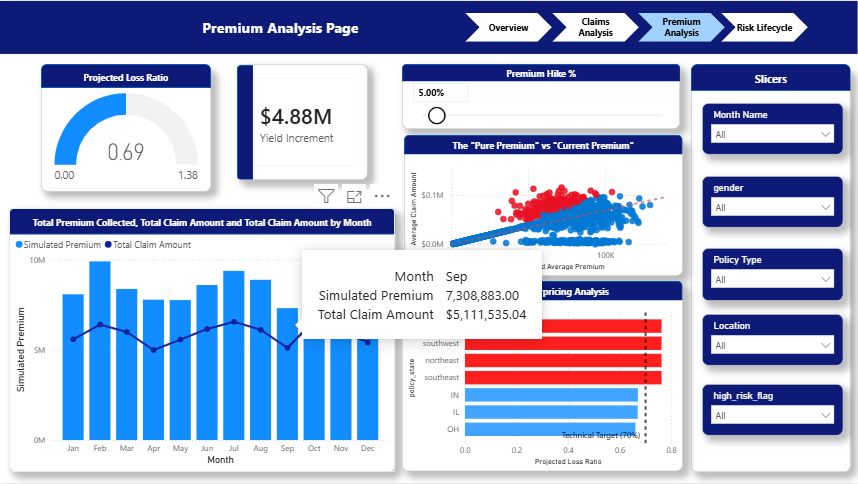

Layout of this report page (visuals, bound fields, positions):
{"tool":"powerbi","page":{"name":"Premium Analysis","canvas":[1280,720],"ordinal":2},"visuals":[{"type":"shape","box":[0,0,1280.2,79.2],"z":0},{"type":"lineClusteredColumnComboChart","fields":{"Category":["Dim_Calendar.Month"],"Y2":["_Measures.Total Claim Amount"],"Y":["_Measures.Simulated Premium"]},"box":[13.2,308.8,576.6,393.7],"z":0,"group":"g5"},{"type":"shape","box":[694.3,18.6,130,42.9],"z":1000},{"type":"slicer","fields":{"Values":["Premium Hike %.Premium Hike %"]},"box":[600,93.8,415.4,96.9],"z":1000,"group":"g3"},{"type":"shape","box":[824.3,18.6,130,42.9],"z":2000},{"type":"gauge","fields":{"Y":["_Measures.Projected Loss Ratio"]},"box":[61.5,98.3,254,185.9],"z":2000,"group":"g1"},{"type":"shape","box":[952.9,18.6,130,42.9],"z":3000},{"type":"cardVisual","fields":{"Data":["_Measures.Premium Yield Increment"]},"box":[341.8,95.5,235.7,172.4],"z":3000,"group":"g2"},{"type":"shape","box":[1075.7,18.6,130,42.9],"z":4000},{"type":"clusteredBarChart","title":"Regional Underpricing Analysis","fields":{"Category":["Dim_Geography.policy_state"],"Y":["_Measures.Projected Loss Ratio"]},"box":[599.9,419.2,419,284.1],"z":4000,"group":"g6"},{"type":"shape","box":[218.5,13.8,401.5,50.8],"z":5000},{"type":"scatterChart","title":"The \"Pure Premium\" vs \"Current Premium\" ","fields":{"Y":["_Measures.Average Claim Amount"],"X":["_Measures.Simulated Average Premium"],"Category":["v_executive_summary.policy_id"]},"box":[602.9,204.9,415.6,206.3],"z":5000,"group":"g4"},{"type":"shape","box":[1030.8,100,238.5,603.1],"z":6000},{"type":"slicer","fields":{"Values":["v_executive_summary.business_line"]},"box":[1047.7,369.2,211.2,78.6],"z":7000},{"type":"slicer","fields":{"Values":["Dim_Geography.policy_state"]},"box":[1047.7,467.7,211.2,77.2],"z":8000},{"type":"slicer","fields":{"Values":["Dim_Gender.gender"]},"box":[1047.3,261.6,211.2,76.8],"z":9000},{"type":"slicer","fields":{"Values":["v_executive_summary.high_risk_flag"]},"box":[1047.3,571.4,211.2,77.2],"z":10000},{"type":"slicer","fields":{"Values":["Dim_Calendar.Month"]},"box":[1047.3,152.7,211.2,77.2],"z":11000},{"type":"shape","box":[1030.8,93.8,238.5,40],"z":12000},{"type":"group","id":"g1","title":"Group 1","box":[61.5,93.8,253.8,190.8],"z":13000},{"type":"group","id":"g2","title":"Group 2","box":[341.8,95.5,235.8,173.1],"z":14000},{"type":"group","id":"g3","title":"Group 3","box":[600,93.8,415.4,96.9],"z":15000},{"type":"group","id":"g4","title":"Group 4","box":[602.9,200.5,415.6,210.7],"z":16000},{"type":"group","id":"g5","title":"Group 5","box":[13.2,308.8,576.6,393.7],"z":17000},{"type":"group","id":"g6","title":"Group 6","box":[599.9,418.5,419,284.9],"z":18000},{"type":"shape","box":[600,93.8,415.4,26.2],"z":18501,"group":"g3"},{"type":"shape","box":[13.2,308.8,576.6,39.5],"z":18502,"group":"g5"},{"type":"shape","box":[602.9,200.5,415.6,29.3],"z":18503,"group":"g4"},{"type":"shape","box":[603,418.5,415.6,29.3],"z":18504,"group":"g6"},{"type":"shape","box":[61.6,93.8,253.7,35.7],"z":18505,"group":"g1"},{"type":"shape","box":[341.8,97.2,29.5,170.7],"z":18506,"group":"g2"}]}

Visuals, with their boxes in screenshot pixels (x1, y1, x2, y2), scaled from the page's 1280x720 canvas onto the 858x484 screenshot:
shape: (x1=0, y1=0, x2=857, y2=53)
lineClusteredColumnComboChart - Dim_Calendar.Month x _Measures.Total Claim Amount: (x1=9, y1=208, x2=395, y2=472)
shape: (x1=465, y1=13, x2=553, y2=41)
slicer - Premium Hike %.Premium Hike %: (x1=402, y1=63, x2=681, y2=128)
shape: (x1=553, y1=13, x2=640, y2=41)
gauge - _Measures.Projected Loss Ratio: (x1=41, y1=66, x2=211, y2=191)
shape: (x1=639, y1=13, x2=726, y2=41)
cardVisual - _Measures.Premium Yield Increment: (x1=229, y1=64, x2=387, y2=180)
shape: (x1=721, y1=13, x2=808, y2=41)
"Regional Underpricing Analysis" clusteredBarChart: (x1=402, y1=282, x2=683, y2=473)
shape: (x1=146, y1=9, x2=416, y2=43)
"The "Pure Premium" vs "Current Premium" " scatterChart: (x1=404, y1=138, x2=683, y2=276)
shape: (x1=691, y1=67, x2=851, y2=473)
slicer - v_executive_summary.business_line: (x1=702, y1=248, x2=844, y2=301)
slicer - Dim_Geography.policy_state: (x1=702, y1=314, x2=844, y2=366)
slicer - Dim_Gender.gender: (x1=702, y1=176, x2=844, y2=227)
slicer - v_executive_summary.high_risk_flag: (x1=702, y1=384, x2=844, y2=436)
slicer - Dim_Calendar.Month: (x1=702, y1=103, x2=844, y2=155)
shape: (x1=691, y1=63, x2=851, y2=90)
"Group 1" group: (x1=41, y1=63, x2=211, y2=191)
"Group 2" group: (x1=229, y1=64, x2=387, y2=181)
"Group 3" group: (x1=402, y1=63, x2=681, y2=128)
"Group 4" group: (x1=404, y1=135, x2=683, y2=276)
"Group 5" group: (x1=9, y1=208, x2=395, y2=472)
"Group 6" group: (x1=402, y1=281, x2=683, y2=473)
shape: (x1=402, y1=63, x2=681, y2=81)
shape: (x1=9, y1=208, x2=395, y2=234)
shape: (x1=404, y1=135, x2=683, y2=154)
shape: (x1=404, y1=281, x2=683, y2=301)
shape: (x1=41, y1=63, x2=211, y2=87)
shape: (x1=229, y1=65, x2=249, y2=180)
